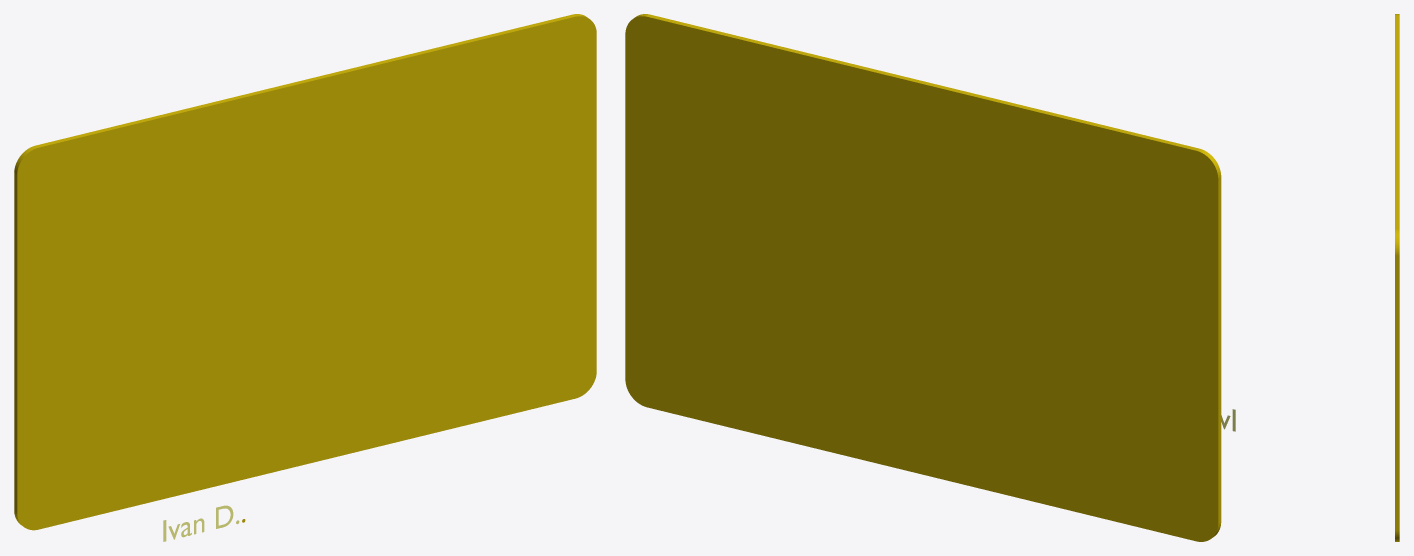
The model's file is credit card.glb.
3 renders of one model, left to right at view 1: azimuth 30°, elevation 25°; view 2: azimuth 150°, elevation 25°; view 3: azimuth 270°, elevation 25°, orthographic. The views are drawn at different scales.
Parts seen in each view (by area): view 1: Cube; view 2: Cube; view 3: Cube.
Boxes of the visible parts, box(x1,y1,x2,y2) form: Cube: box(14, 14, 596, 530); Cube: box(625, 14, 1221, 541); Cube: box(1395, 14, 1399, 541).
Size of the model in its own units: 0.856 by 0.539 by 0.2127.
